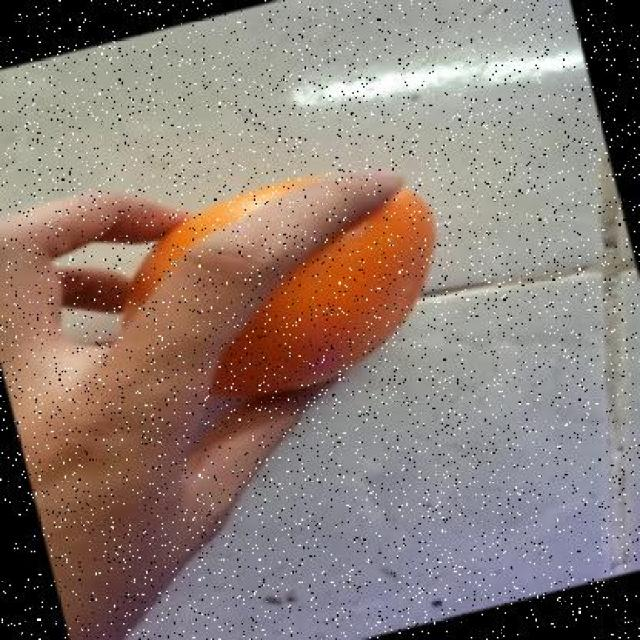Orange: (118, 166, 437, 403)
